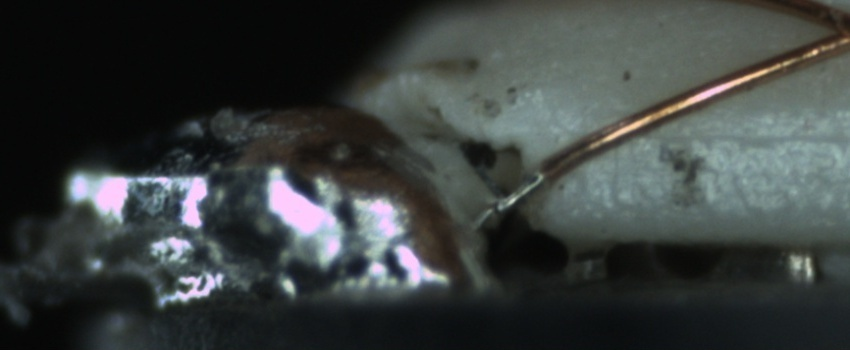CL: (802, 2, 850, 61)
DL: (627, 97, 845, 166)
TS: (487, 169, 546, 220)
TTCW: (486, 156, 553, 217)
